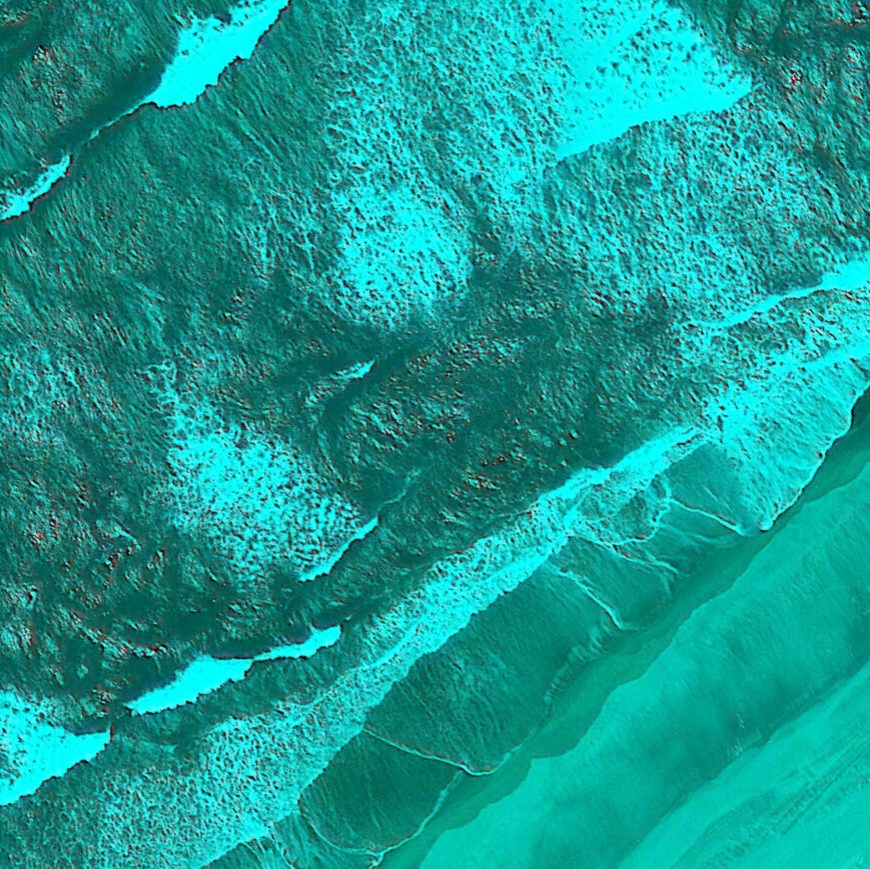rip_current: (85, 172, 528, 564)
